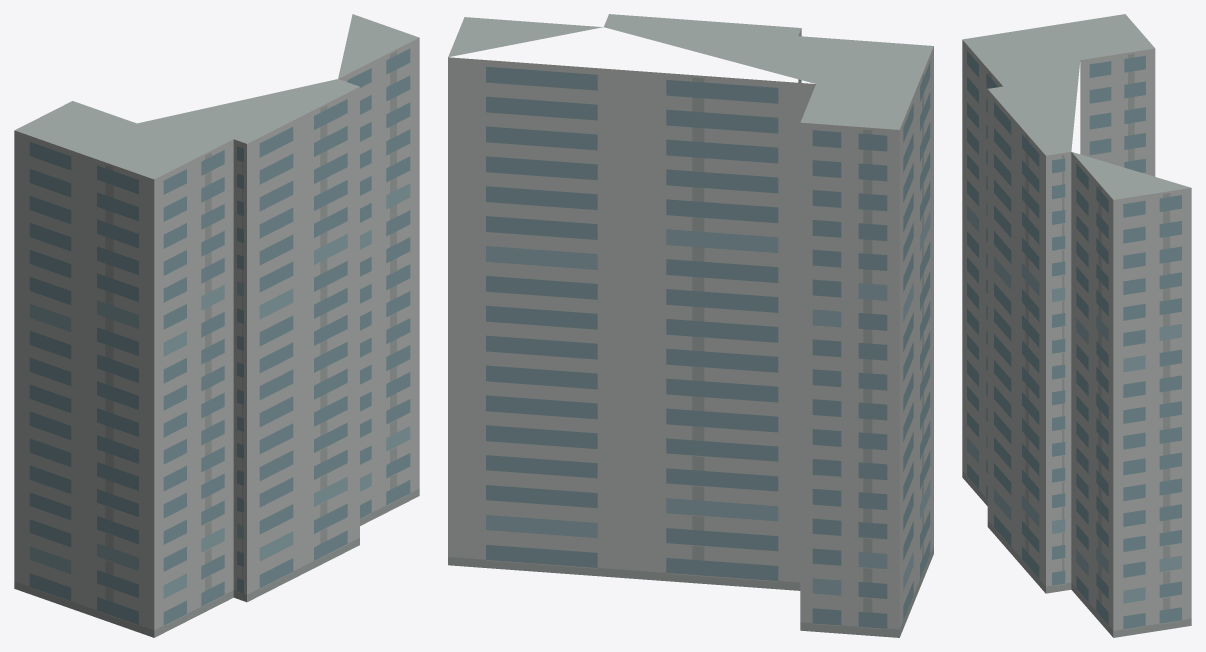
File: residential-da277729-137b-4dd3-9b7d-ea742df0c0f0.glb
3 renders of one model, left to right at view 1: azimuth 30°, elevation 25°; view 2: azimuth 150°, elevation 25°; view 3: azimuth 270°, elevation 25°, orthographic. The views are drawn at different scales.
Visible parts, largest first — view 1: residential-da277729-137b-4dd3-9b7d-ea742df0c0f0.tmp; view 2: residential-da277729-137b-4dd3-9b7d-ea742df0c0f0.tmp; view 3: residential-da277729-137b-4dd3-9b7d-ea742df0c0f0.tmp.
Part boxes in pixels (bbox=[...]): residential-da277729-137b-4dd3-9b7d-ea742df0c0f0.tmp: bbox=[14, 14, 419, 637]; residential-da277729-137b-4dd3-9b7d-ea742df0c0f0.tmp: bbox=[448, 14, 933, 637]; residential-da277729-137b-4dd3-9b7d-ea742df0c0f0.tmp: bbox=[962, 14, 1191, 637].
Bounding box in the file's own units: 51.01 × 56 × 26.59.
